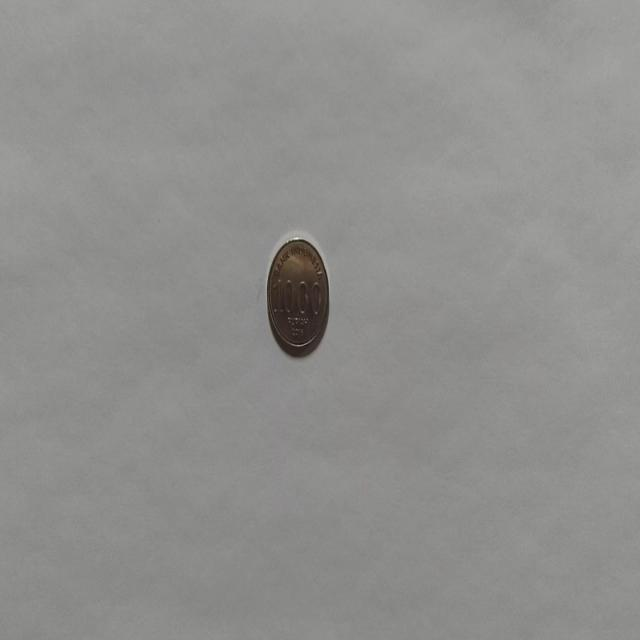seribu rupiah koin: (265, 232, 330, 358)
